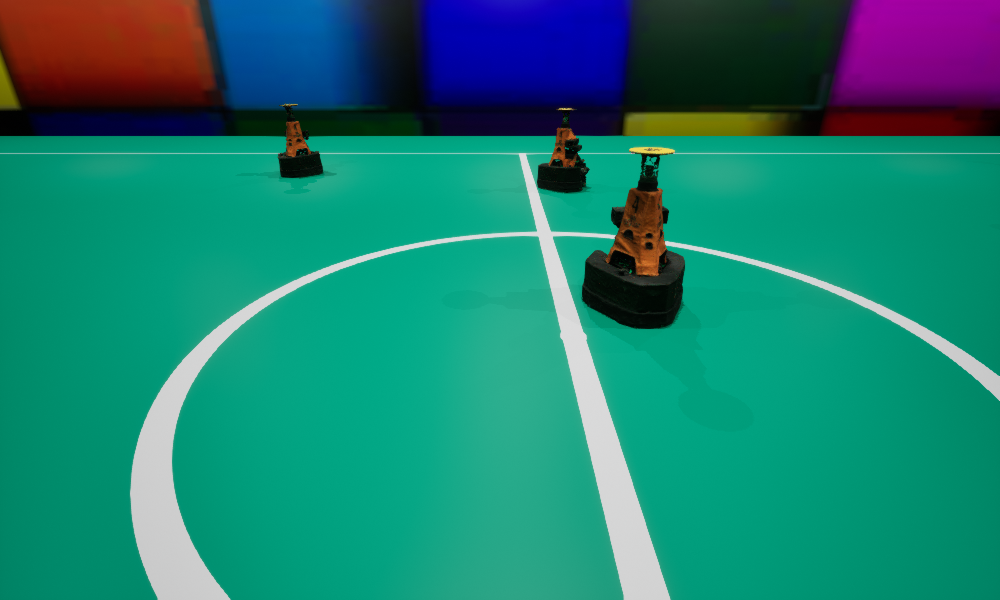0 orange robot TechUnited: (582, 147, 684, 328), (537, 108, 589, 192), (278, 104, 322, 177)
